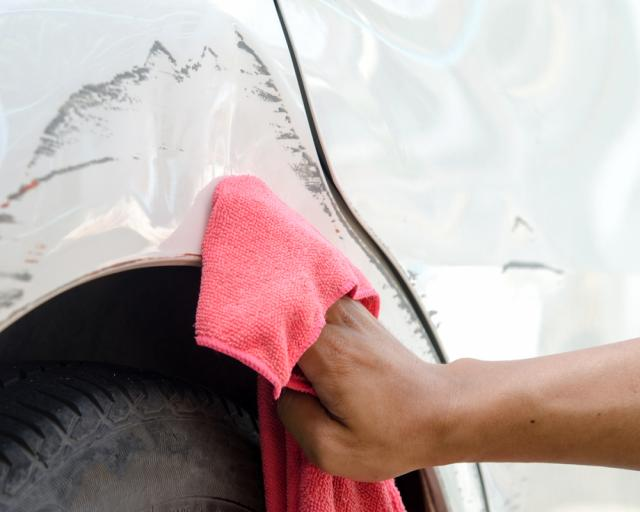dent: (29, 53, 270, 248)
scratch: (234, 29, 436, 354), (0, 180, 46, 333)
